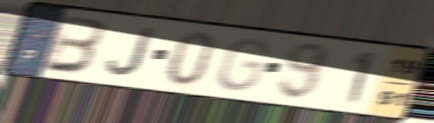0: (165, 29, 218, 89)
1: (345, 50, 376, 108)
9: (276, 40, 332, 104)
B: (38, 13, 110, 76)
G: (214, 36, 271, 93)
J: (105, 26, 157, 79)
